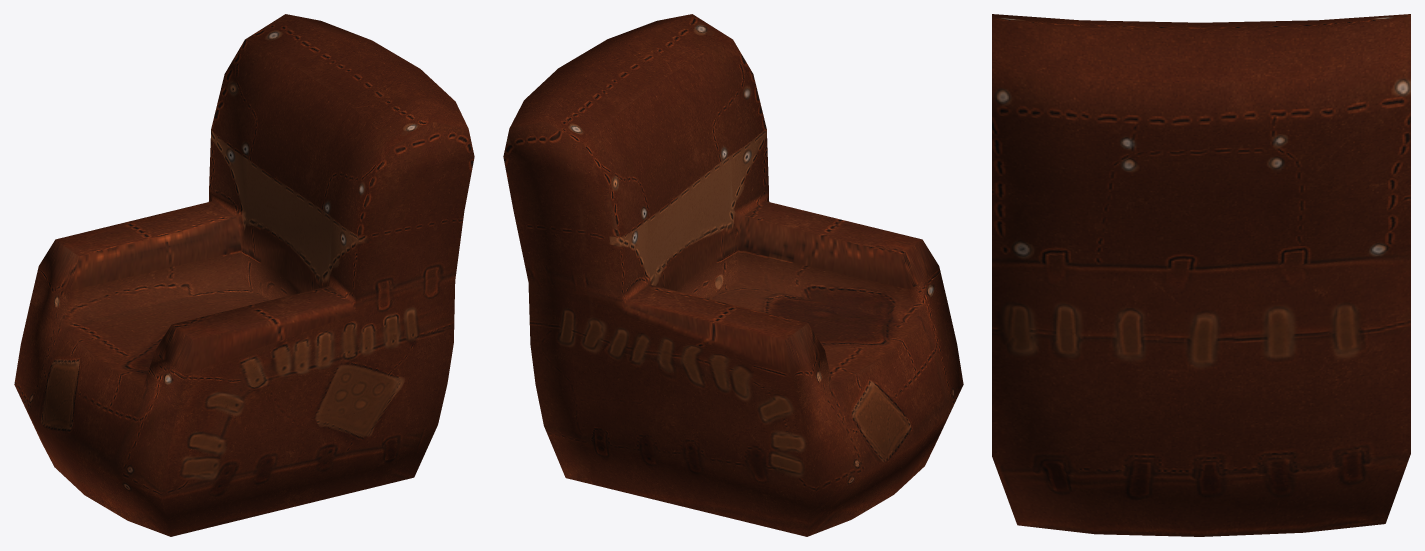
The model's file is sofa_chair.fbx.
3 views of the same model, side by side, from view 1: azimuth 30°, elevation 25°; view 2: azimuth 150°, elevation 25°; view 3: azimuth 270°, elevation 25° (orthographic). The views are drawn at different scales.
Parts seen in each view (by area): view 1: sofa_chair; view 2: sofa_chair; view 3: sofa_chair.
Part boxes in pixels (<box>): sofa_chair: <box>14,14,474,536</box>; sofa_chair: <box>503,14,963,536</box>; sofa_chair: <box>992,14,1410,536</box>.
Bounding box in the file's own units: 111 × 105 × 78.06.
